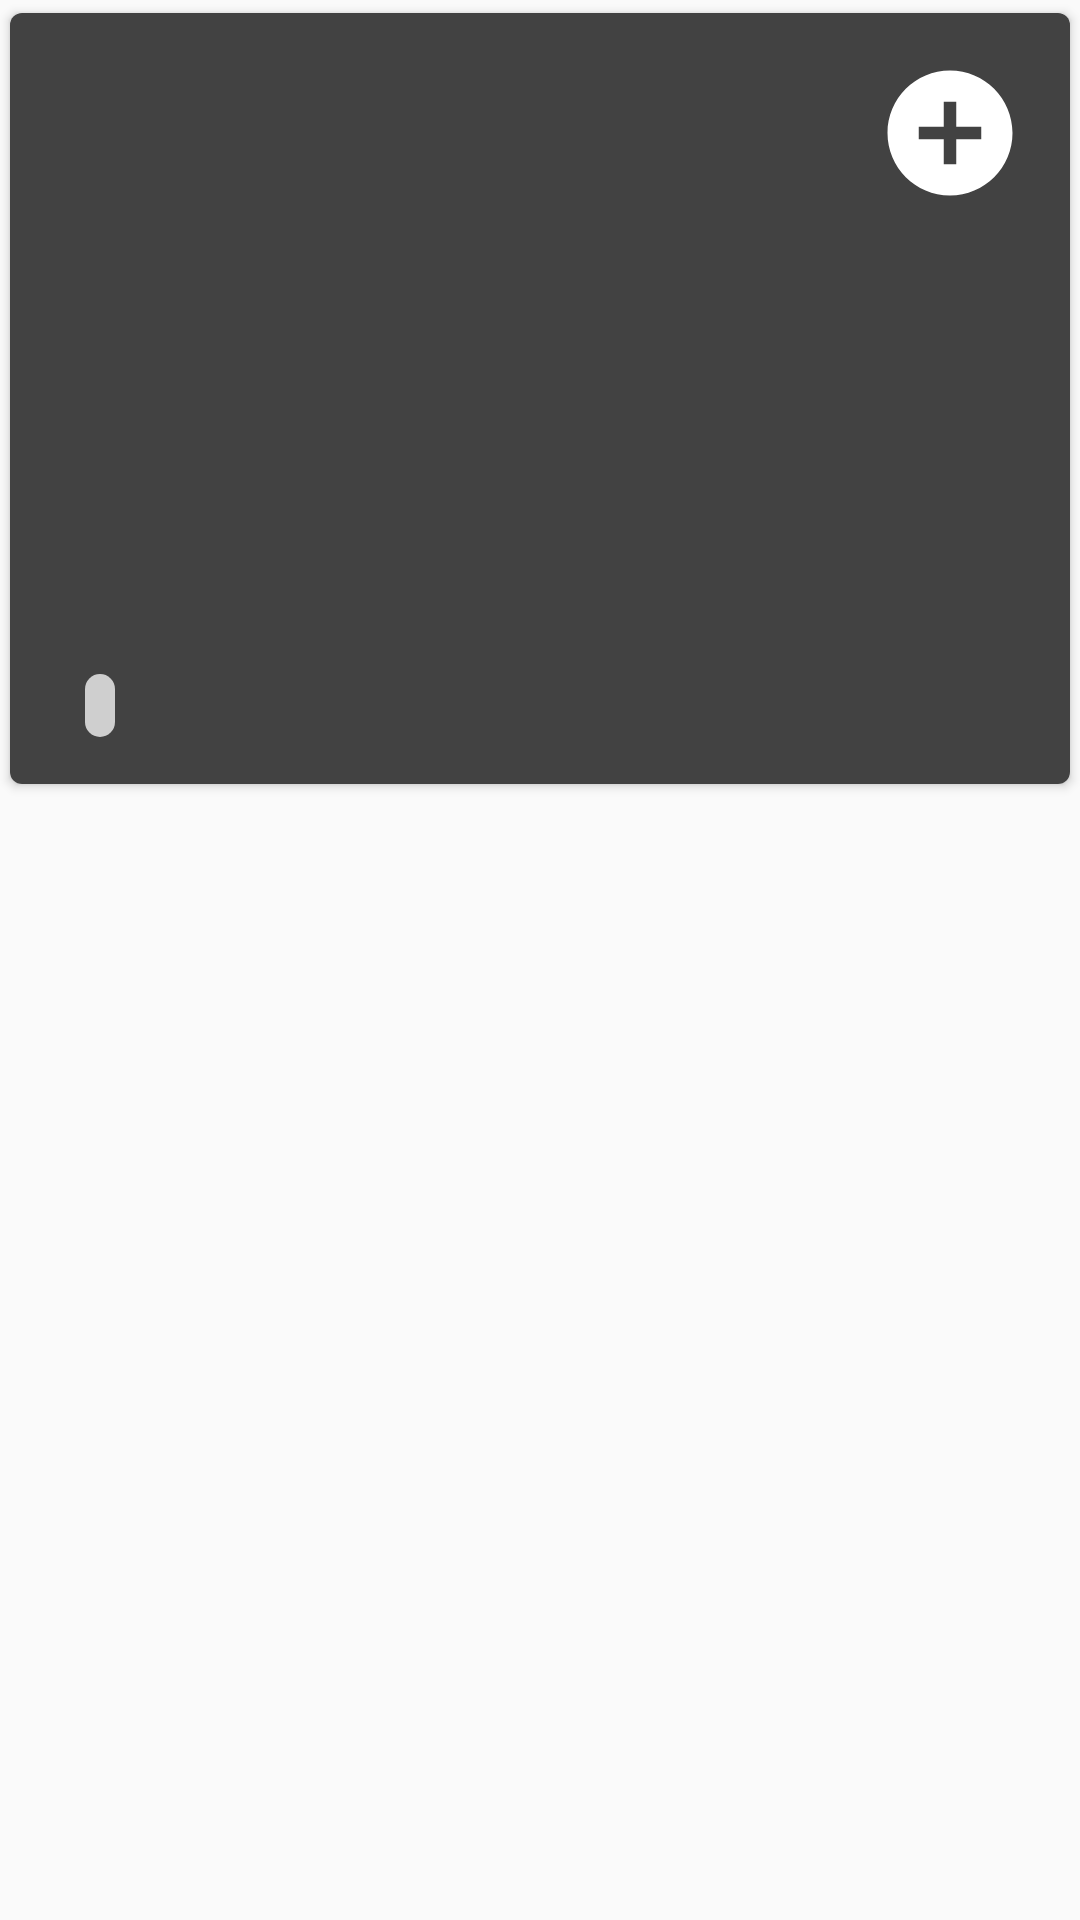

Locate icon controls on the screen. Image size 1080w x 1920h, boxes as (x1, y1, x2, y2).
add circle: (887, 70, 1013, 196)
